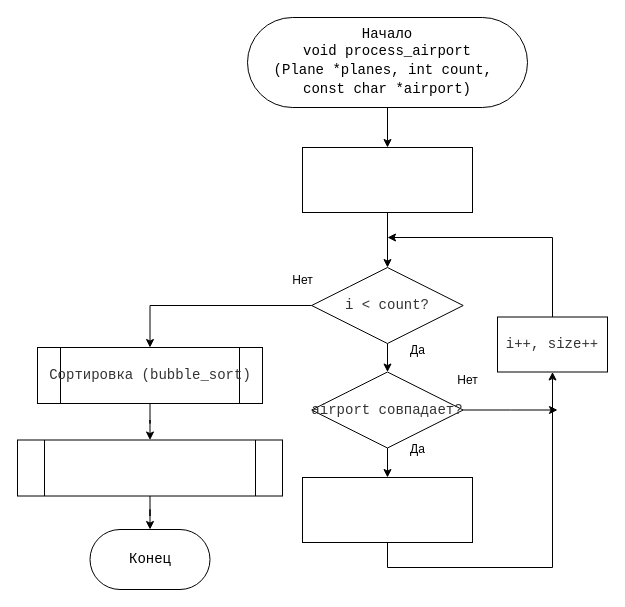
Some shapes in this 625 by 607 pixel diagram are drawn without their labels. The centre of each missing label's shape, as x and y in pixels:
"Вывод таблицы (print_table)" goes at (149,467).
"Добавить индекс в indices" goes at (387,509).
"Инициализация indices[], size = 0 i = 0" goes at (387,179).
